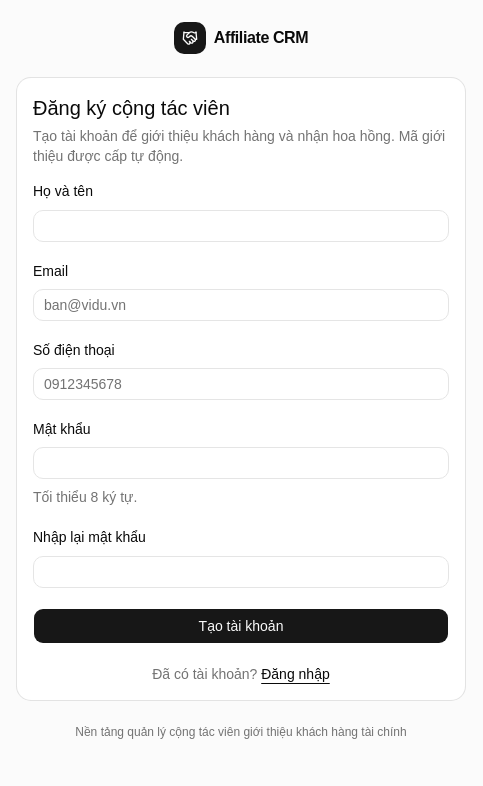
Test: RegisterPage › validates phone number, password length and confirmation
Type "Đỗ Thị Mai" into the field labelled "Họ và tên" at (241, 226), box [33,210,449,242]
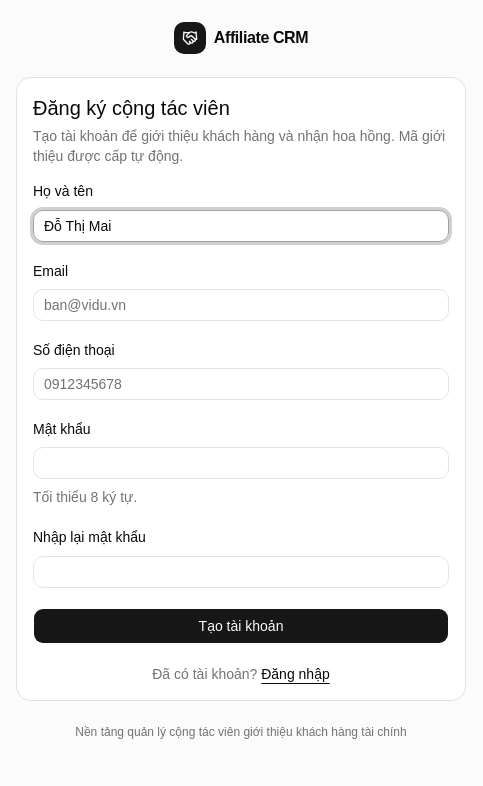
Type "mai.do@example.vn" into the field labelled "Email" at (241, 305), box [33,289,449,321]
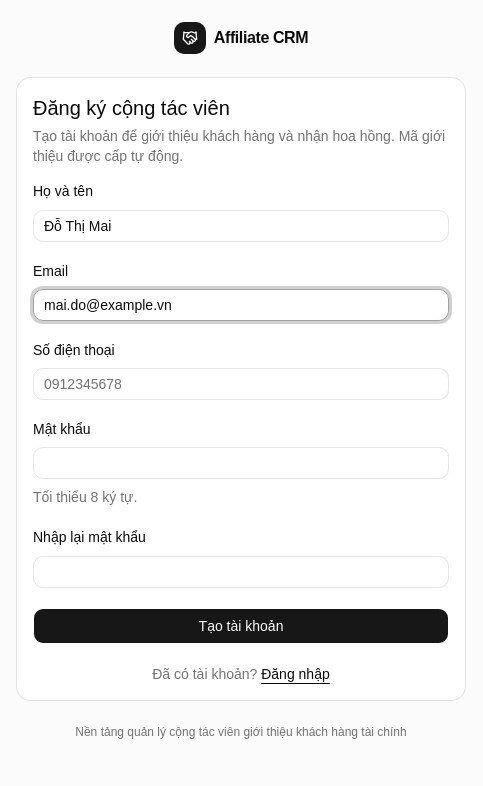
Type "12345" into the field labelled "Số điện thoại" at (241, 384), box [33,368,449,400]
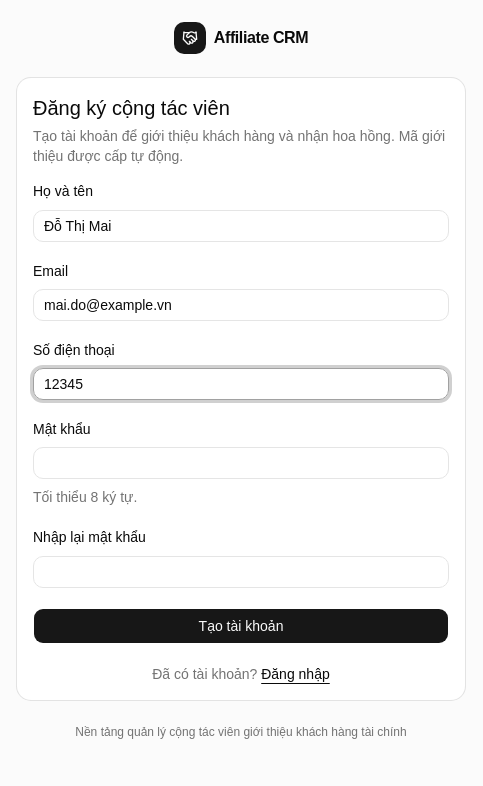
Type "ngan" into the password field labelled "Mật khẩu" at (241, 463), box [33,447,449,479]
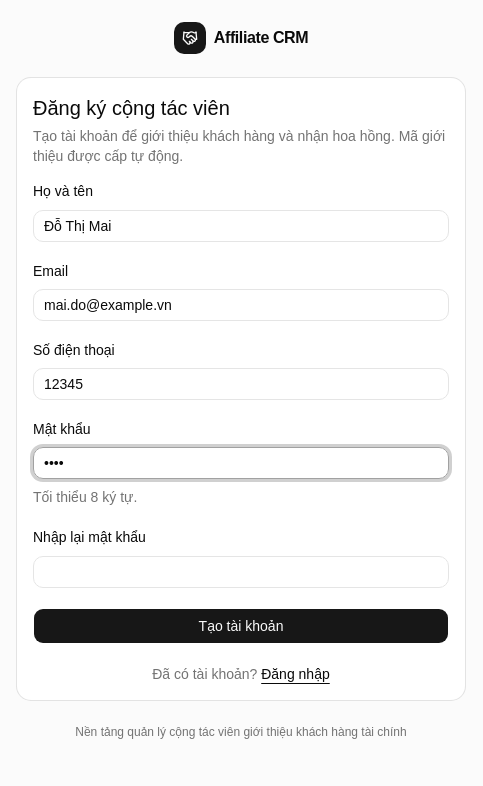
Type "khac" into the password field labelled "Nhập lại mật khẩu" at (241, 572), box [33,556,449,588]
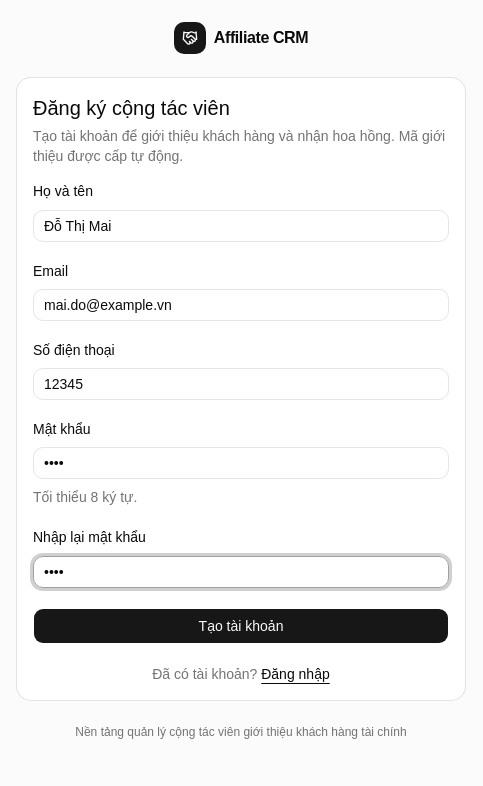
Click the button "Tạo tài khoản" at (241, 626), box [33,608,449,644]
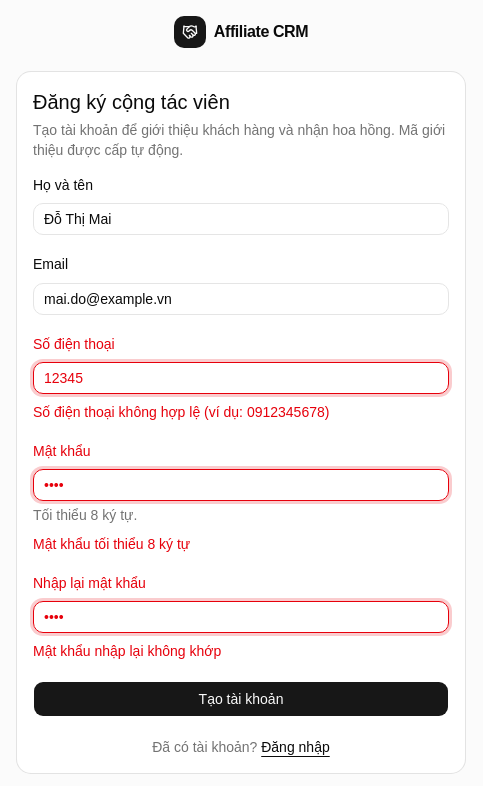
Expected: the text "Số điện thoại không hợp lệ (ví dụ: 0912345678)" is shown, [33,404,329,420]
Expected: the text "Mật khẩu tối thiểu 8 ký tự" is shown, [33,536,190,552]
Expected: the text "Mật khẩu nhập lại không khớp" is shown, [33,643,221,659]
